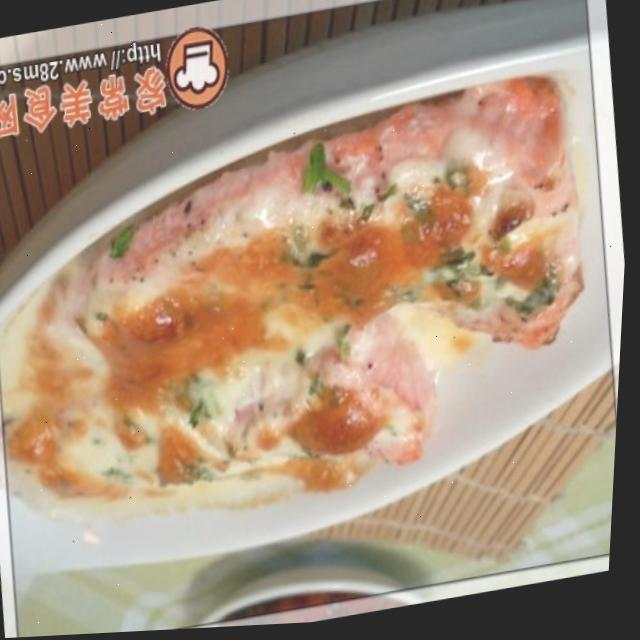熟制海鲜: (0, 21, 636, 622)
